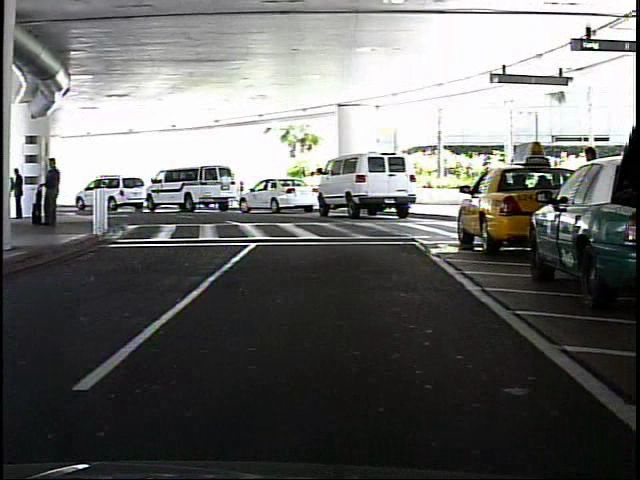person: (577, 143, 604, 243), (45, 155, 64, 227)
